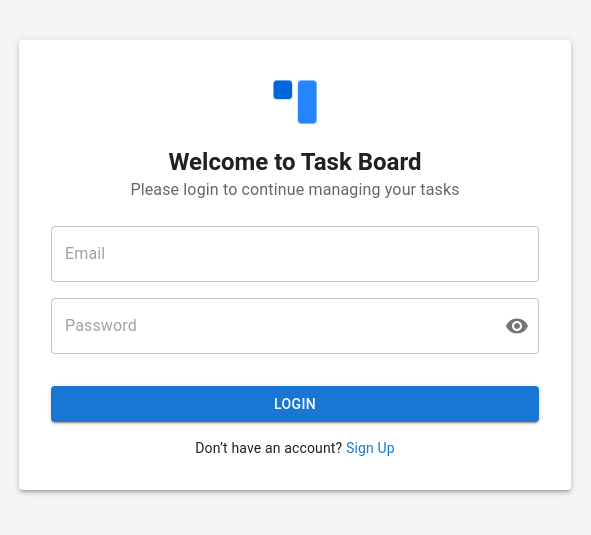
Login Component › displays validation error for invalid email format
The width and height of the screenshot is (591, 535).
Type "invalidemail" into the field with placeholder "Email" at (295, 254), box [51,226,539,282]
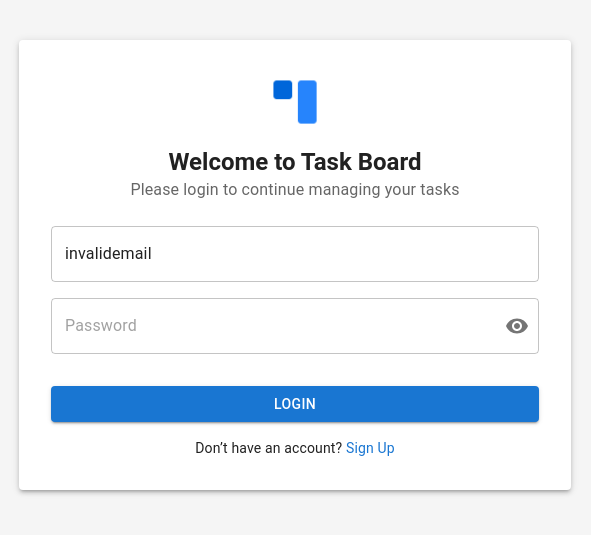
Click the button "Login" at (295, 404), box [51,386,539,422]
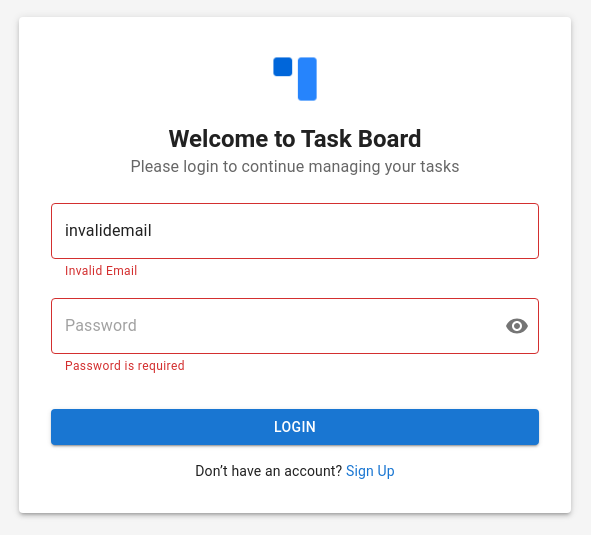
expect the text "Invalid Email" is shown: met, box [65,264,138,278]
